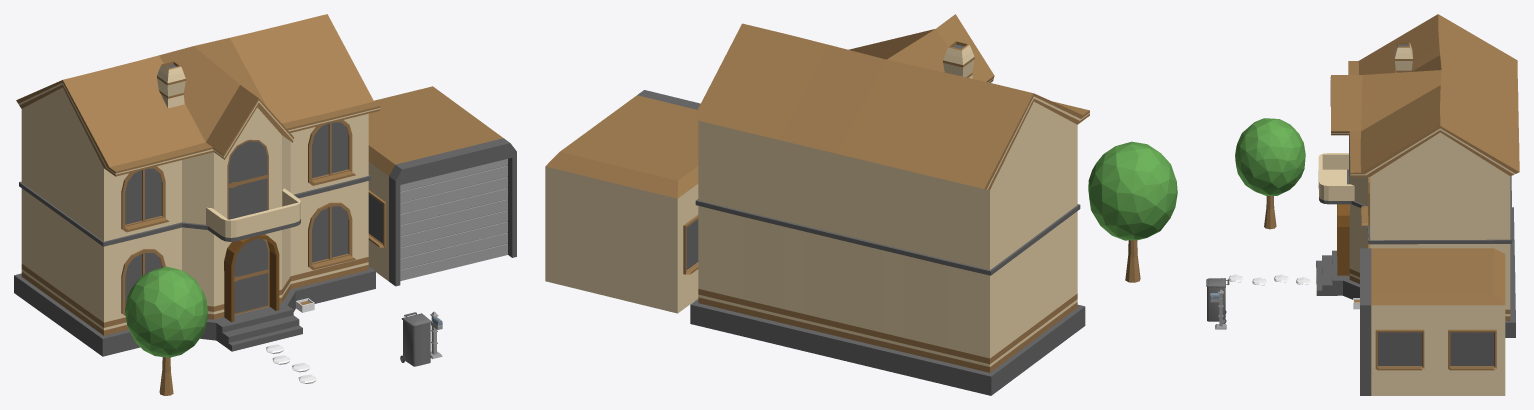
The model's file is House 2.fbx.
3 renders of one model, left to right at view 1: azimuth 30°, elevation 25°; view 2: azimuth 150°, elevation 25°; view 3: azimuth 270°, elevation 25°, orthographic. The views are drawn at different scales.
Visible parts, largest first — view 1: Mail Box_1.001_Color_0; view 2: Mail Box_1.001_Color_0; view 3: Mail Box_1.001_Color_0.
Boxes of the visible parts, x1,y1,x2,y2 form: Mail Box_1.001_Color_0: (14, 14, 516, 395); Mail Box_1.001_Color_0: (545, 14, 1177, 395); Mail Box_1.001_Color_0: (1206, 14, 1519, 395).
Size of the model in its own units: 1939 by 1062 by 1378.
Materials: 1 (1 with a texture image).
